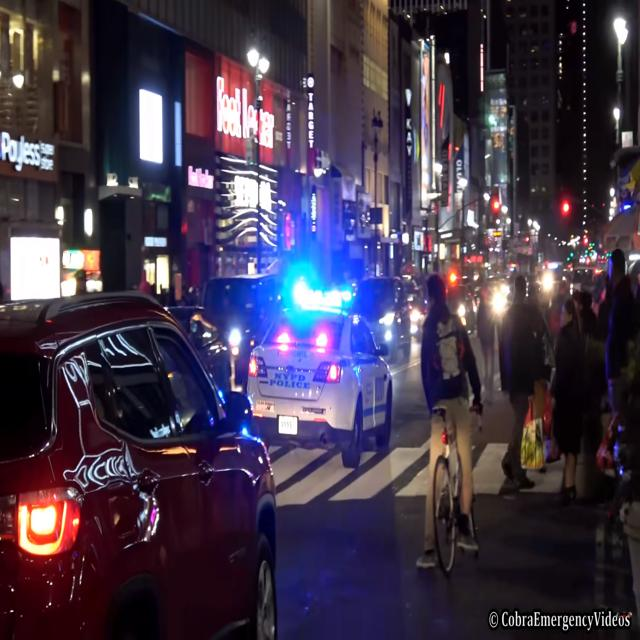emergency-vehicles: (225, 272, 403, 464)
